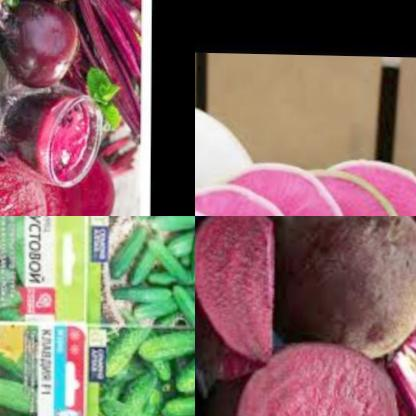beet: (238, 216, 416, 359), (201, 340, 416, 416), (195, 216, 276, 388), (0, 152, 113, 216), (0, 1, 82, 84)
cucumber: (108, 216, 195, 326), (105, 321, 195, 416), (0, 311, 38, 416)
redka: (195, 97, 269, 216), (230, 158, 346, 216), (305, 162, 402, 216), (334, 153, 416, 216), (195, 177, 295, 216)
